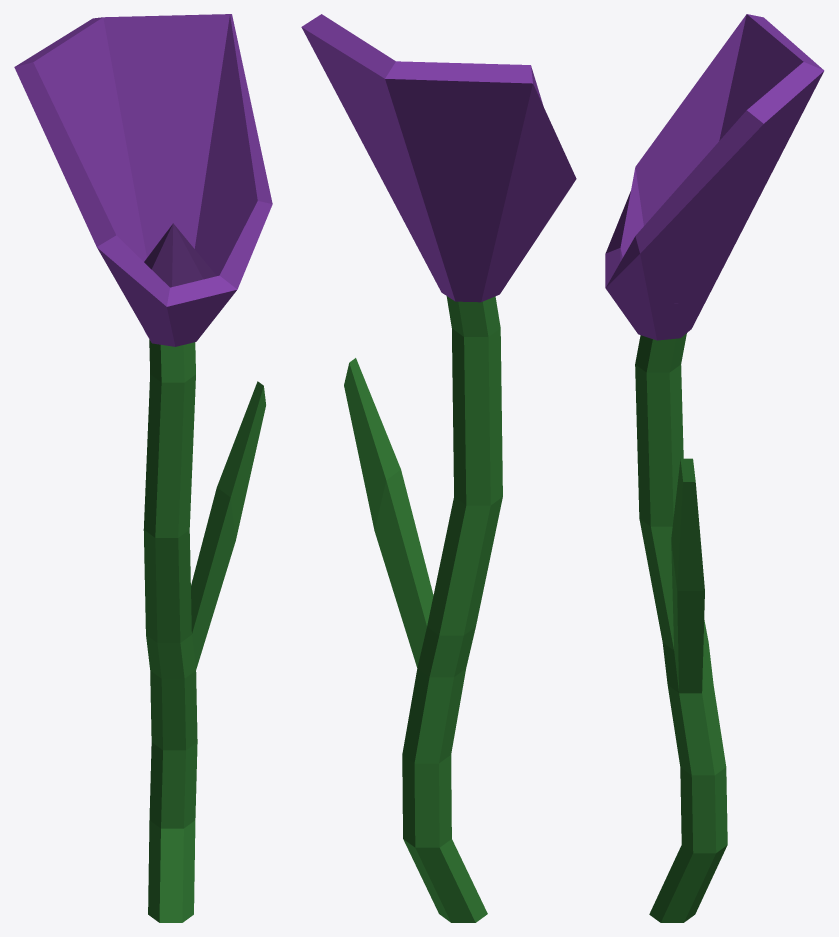
Rendered from Flower_5_Purple.fbx.
The picture shows the model from 3 angles, left to right: view 1: azimuth 30°, elevation 25°; view 2: azimuth 150°, elevation 25°; view 3: azimuth 270°, elevation 25°; orthographic projection. The views are drawn at different scales.
Visible parts, largest first — view 1: Flower_5_Purple_Part_2, Flower_5_Purple_Part_1, Flower_5_Purple_Part_3; view 2: Flower_5_Purple_Part_2, Flower_5_Purple_Part_1; view 3: Flower_5_Purple_Part_2, Flower_5_Purple_Part_1.
Boxes of the visible parts, bbox=[...] form: Flower_5_Purple_Part_2: bbox=[14, 14, 272, 346]; Flower_5_Purple_Part_1: bbox=[143, 339, 265, 922]; Flower_5_Purple_Part_3: bbox=[144, 223, 216, 287]; Flower_5_Purple_Part_2: bbox=[301, 14, 576, 302]; Flower_5_Purple_Part_1: bbox=[344, 296, 502, 922]; Flower_5_Purple_Part_2: bbox=[605, 14, 824, 340]; Flower_5_Purple_Part_1: bbox=[635, 333, 727, 922].
Size of the model in its own units: 10.95 by 40.82 by 9.51.
